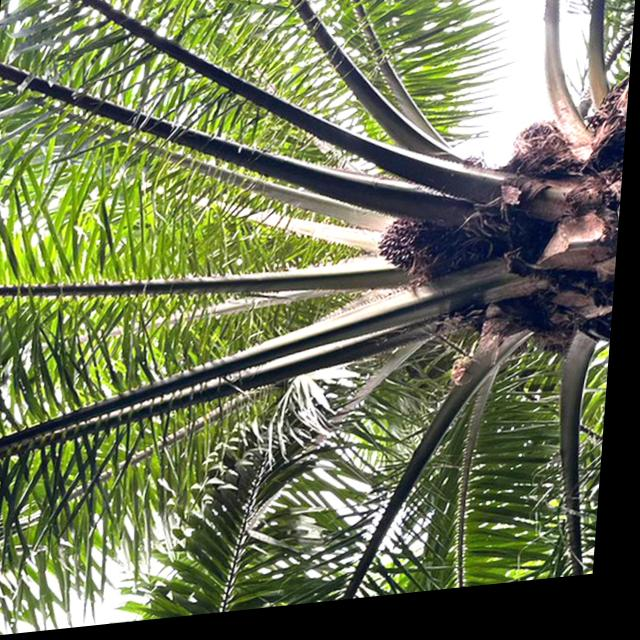ripe: (366, 220, 451, 292)
